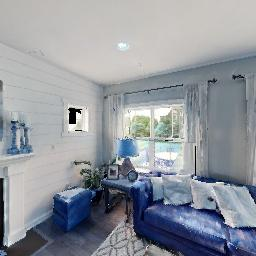sofa: (126, 168, 256, 256)
table: (103, 160, 141, 226)
